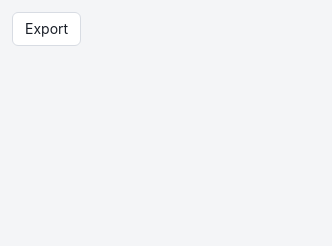
Test: exporting a schedule › shows a failed export once, beside the menu
This screenshot has width=332, height=246.
Press ArrowDown in the button with test id "export-open", box [12,12,81,46]
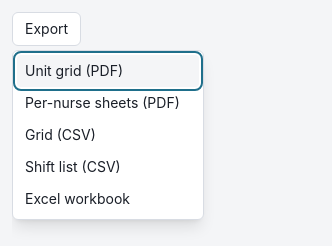
Click the menu item "Grid (CSV)": {"x": 60, "y": 134} [25,126,96,143]
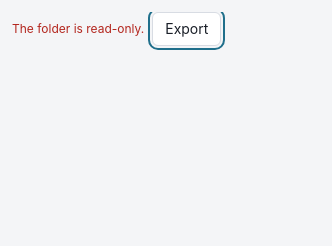
Now the text "The folder is read-only." is shown once, box [12,21,144,37]
